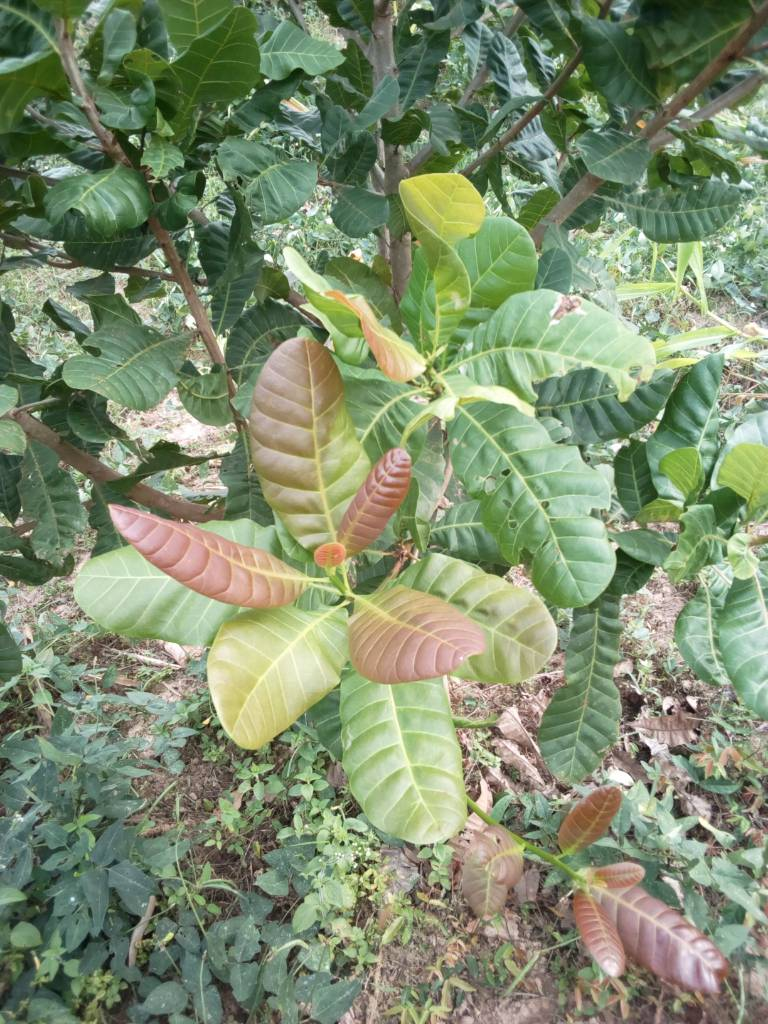Anoplonemis curvipes: (436, 392, 622, 611), (432, 255, 689, 411)
